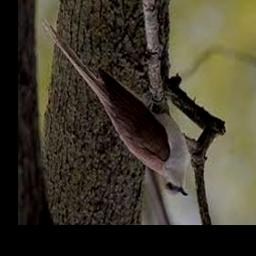Cuckoo: (41, 17, 188, 198)
